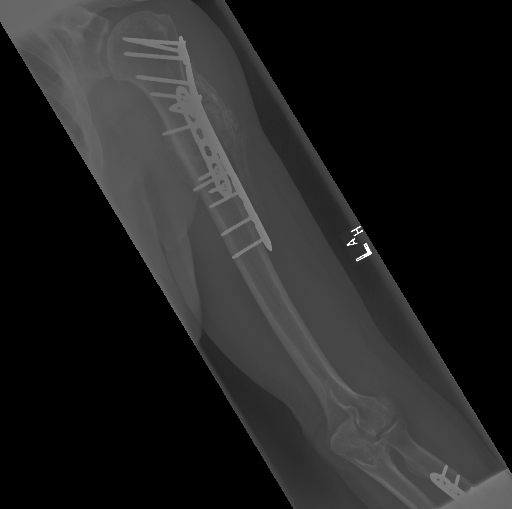implant: (112, 29, 278, 268), (420, 460, 476, 504)
